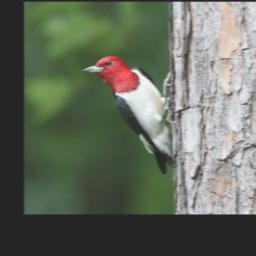Woodpecker: (78, 55, 178, 174)
